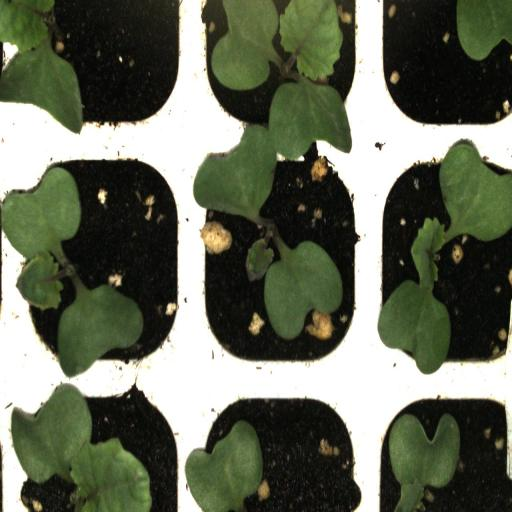seedling: (187, 136, 360, 378), (19, 134, 187, 378), (367, 135, 512, 375), (192, 0, 365, 135)
